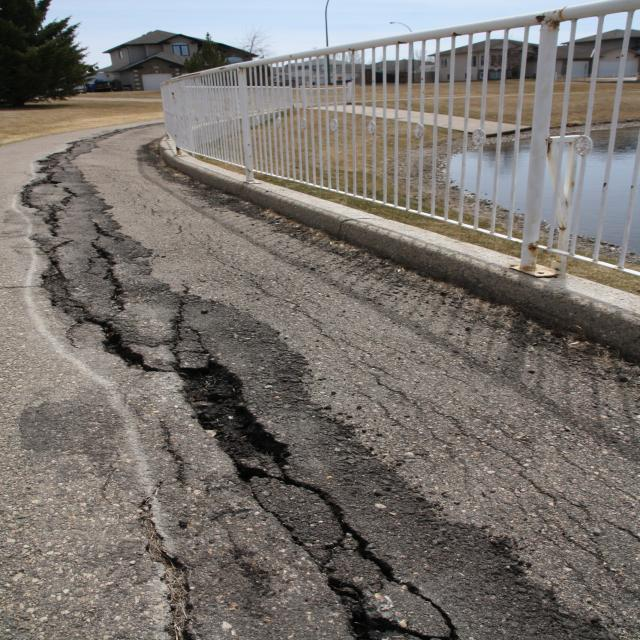Pothole: (2, 104, 504, 640)
